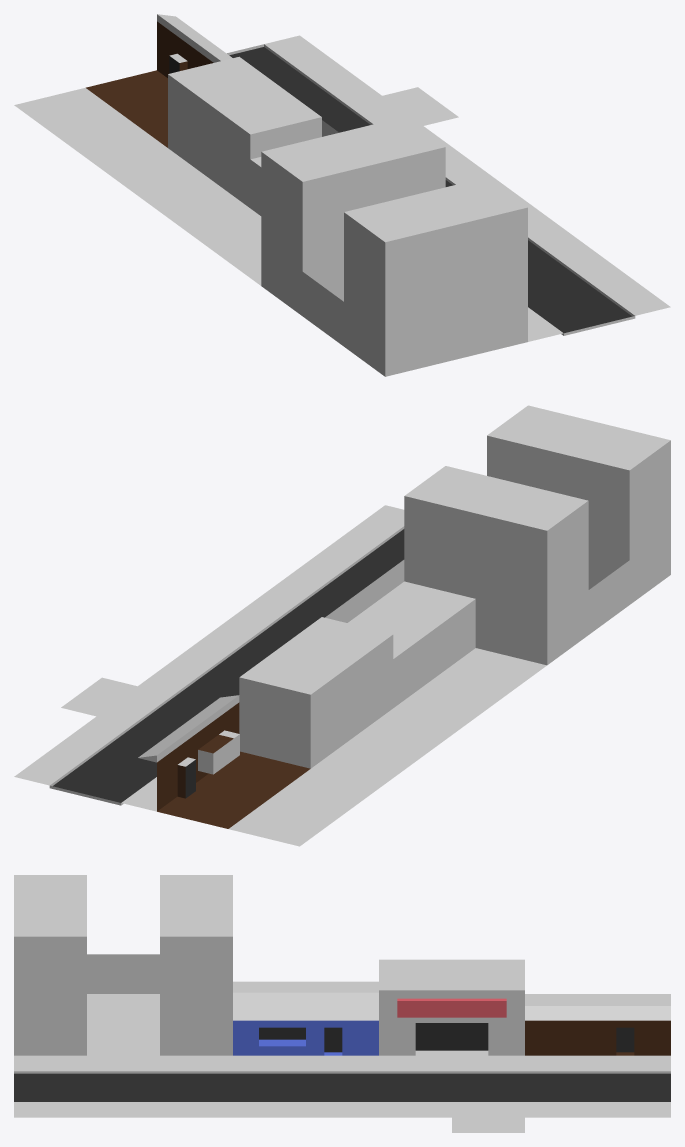
File: Backstreetblockout2.glb
3 views of the same model, one above another, from view 1: azimuth 30°, elevation 25°; view 2: azimuth 150°, elevation 25°; view 3: azimuth 270°, elevation 25° (orthographic). The views are drawn at different scales.
Parts seen in each view (by area): view 1: Street1.col; view 2: Street1.col; view 3: Street1.col.
Boxes of the visible parts, <box> form: Street1.col: <box>14,14,670,376</box>; Street1.col: <box>14,405,670,846</box>; Street1.col: <box>14,875,670,1132</box>.
Bounding box in the file's own units: 45 × 18.36 × 90.
